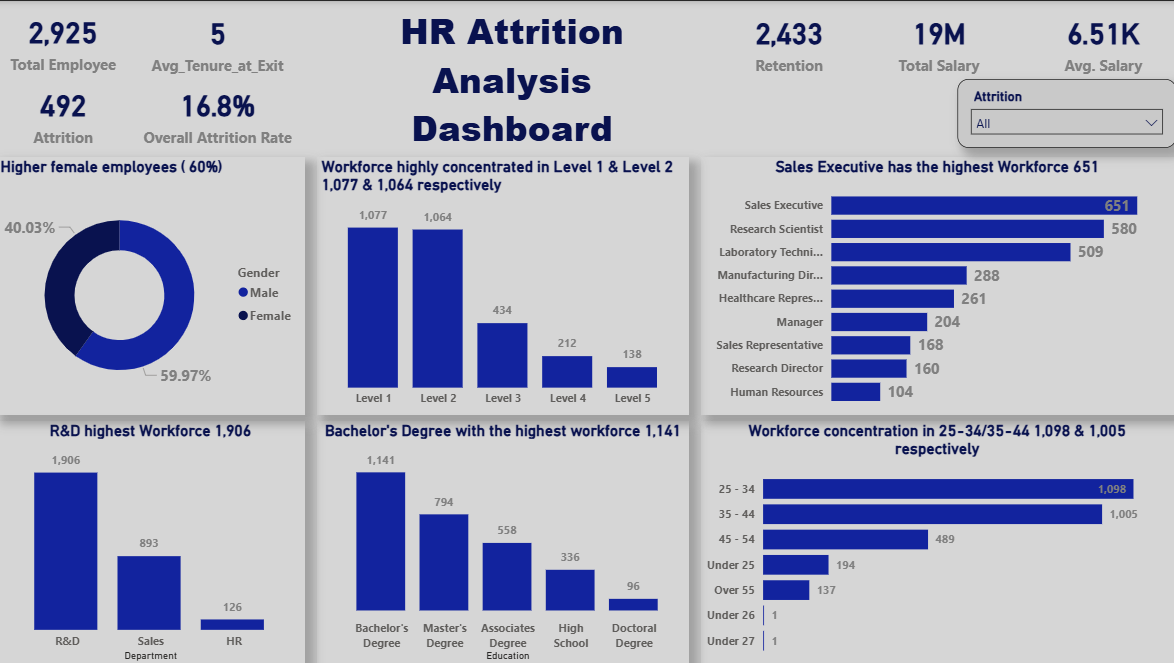

What the dashboard file says about the page in this screenshot:
{"tool":"powerbi","page":{"name":"Page 1","canvas":[1280,720],"ordinal":0},"visuals":[{"type":"card","fields":{"Values":["All Measures.Attrition"]},"box":[0,84.6,144.8,74.8],"z":0},{"type":"card","fields":{"Values":["All Measures.Attrition Rate"]},"box":[144.8,84.6,190.3,74.8],"z":1000},{"type":"card","fields":{"Values":["All Measures.Total Employee"]},"box":[0,0,144.8,84.6],"z":2000},{"type":"card","fields":{"Values":["All Measures.Total Salary"]},"box":[943.4,0,157.8,87.8],"z":3000},{"type":"card","fields":{"Values":["Avg(Raw Data.Monthly Income)"]},"box":[1120.7,0,159.4,87.8],"z":4000},{"type":"columnChart","title":"Workforce highly concentrated  in Level 1 & Level 2 1,077 & 1,064 respectively","fields":{"Category":["Raw Data.Job_Level"],"Y":["All Measures.Total Employee"]},"box":[348.1,169.2,403.4,279.8],"z":5000},{"type":"barChart","title":"Sales Executive has the highest Workforce 651","fields":{"Category":["Raw Data.Job Role"],"Y":["All Measures.Total Employee"]},"box":[764.5,169.2,512.4,279.8],"z":6000},{"type":"columnChart","title":"Bachelor''s Degree with the highest workforce 1,141","fields":{"Category":["Raw Data.Education"],"Y":["All Measures.Total Employee"]},"box":[348.1,454.9,403.4,265.1],"z":7000},{"type":"barChart","title":"Workforce concentration in 25-34/35-44  1,098 & 1,005 respectively","fields":{"Category":["Raw Data.CF_age band"],"Y":["All Measures.Total Employee"]},"box":[764.5,454.9,512.4,265.1],"z":8000},{"type":"columnChart","title":"R&D highest Workforce 1,906","fields":{"Y":["All Measures.Total Employee"],"Category":["Raw Data.Department"]},"box":[0,455.4,335.1,265.1],"z":9000},{"type":"donutChart","title":"Higher female employees ( 60%)","fields":{"Category":["Raw Data.Gender"],"Y":["All Measures.Total Employee"]},"box":[0,169.2,335.1,279.8],"z":10000},{"type":"shape","box":[344.8,0,419.6,169.2],"z":11000},{"type":"slicer","fields":{"Values":["Raw Data.Attrition"]},"box":[1042.6,84.6,237.5,74.8],"z":12000},{"type":"textbox","box":[354.6,0,409.9,169.2],"z":13000},{"type":"card","fields":{"Values":["All Measures.Avg_Tenure_at_Exit"]},"box":[144.8,0,190.3,87.8],"z":14000},{"type":"card","fields":{"Values":["All Measures.Retention"]},"box":[779.1,0,161,87.8],"z":15000}]}

Visuals, with their boxes in screenshot pixels (x1, y1, x2, y2), scaled from the page's 1280x720 canvas onto the 1174x663 screenshot:
card - All Measures.Attrition: select_region(0, 78, 133, 147)
card - All Measures.Attrition Rate: select_region(133, 78, 307, 147)
card - All Measures.Total Employee: select_region(0, 0, 133, 78)
card - All Measures.Total Salary: select_region(865, 0, 1010, 81)
card - Avg(Raw Data.Monthly Income): select_region(1028, 0, 1173, 81)
"Workforce highly concentrated  in Level 1 & Level 2 1,077 & 1,064 respectively" columnChart: select_region(319, 156, 689, 413)
"Sales Executive has the highest Workforce 651" barChart: select_region(701, 156, 1171, 413)
"Bachelor''s Degree with the highest workforce 1,141" columnChart: select_region(319, 419, 689, 662)
"Workforce concentration in 25-34/35-44  1,098 & 1,005 respectively" barChart: select_region(701, 419, 1171, 662)
"R&D highest Workforce 1,906" columnChart: select_region(0, 419, 307, 662)
"Higher female employees ( 60%)" donutChart: select_region(0, 156, 307, 413)
shape: select_region(316, 0, 701, 156)
slicer - Raw Data.Attrition: select_region(956, 78, 1173, 147)
textbox: select_region(325, 0, 701, 156)
card - All Measures.Avg_Tenure_at_Exit: select_region(133, 0, 307, 81)
card - All Measures.Retention: select_region(715, 0, 862, 81)
